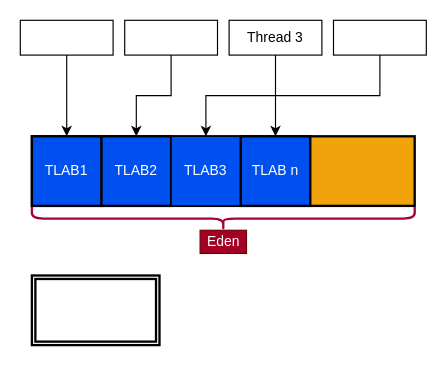
Some shapes in this 447 by 367 pixel diagram are drawn without their labels. Here are the shapes that lost their labels. From the top down, the centre of each, then its label:
At point (66, 37): "Thread 1".
At point (170, 37): "Thread 2".
At point (379, 37): "Thread n".
